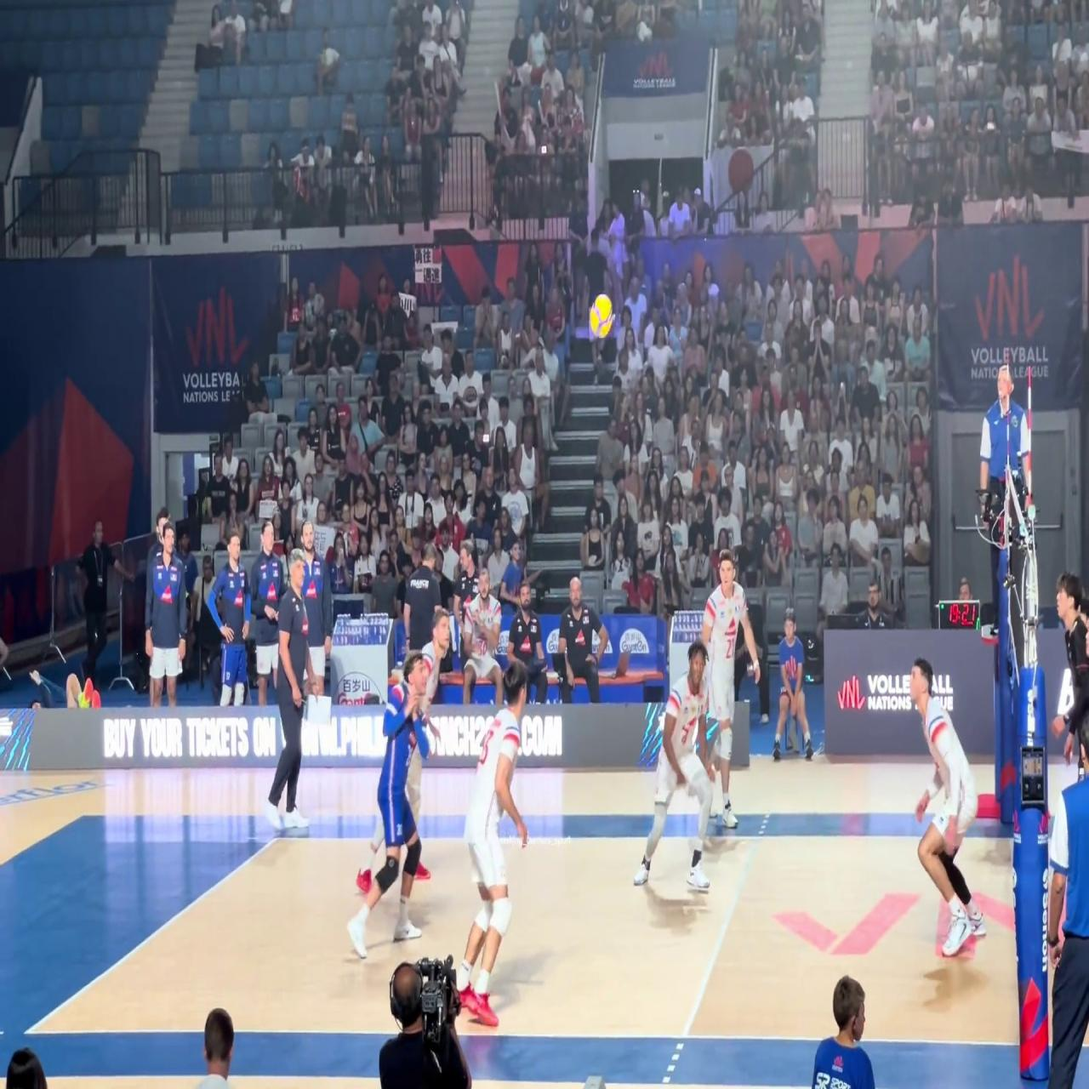ball: (590, 295, 612, 338)
